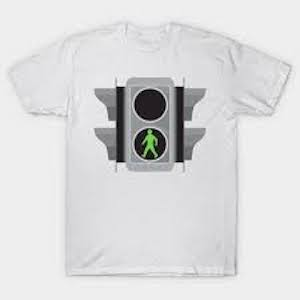green: (139, 128, 165, 163)
